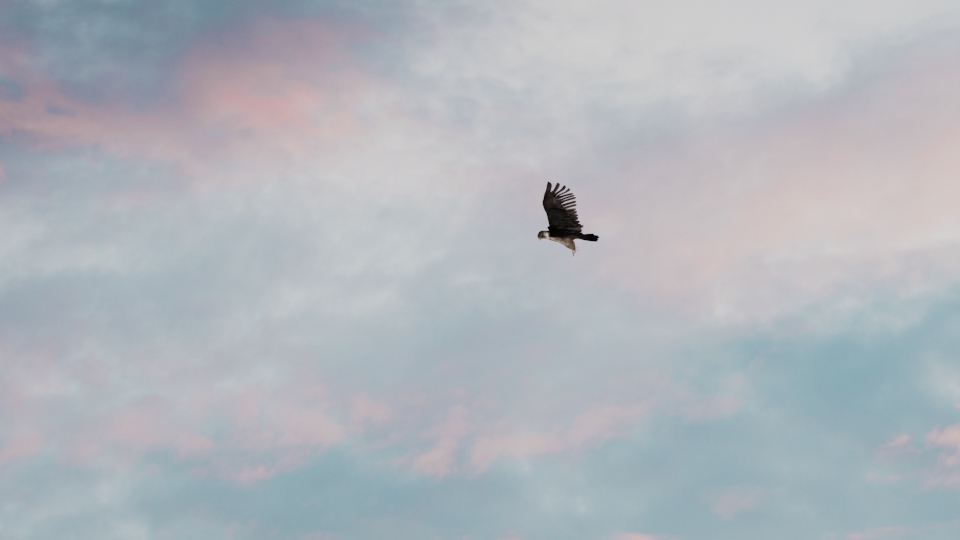bird: (536, 181, 599, 256)
